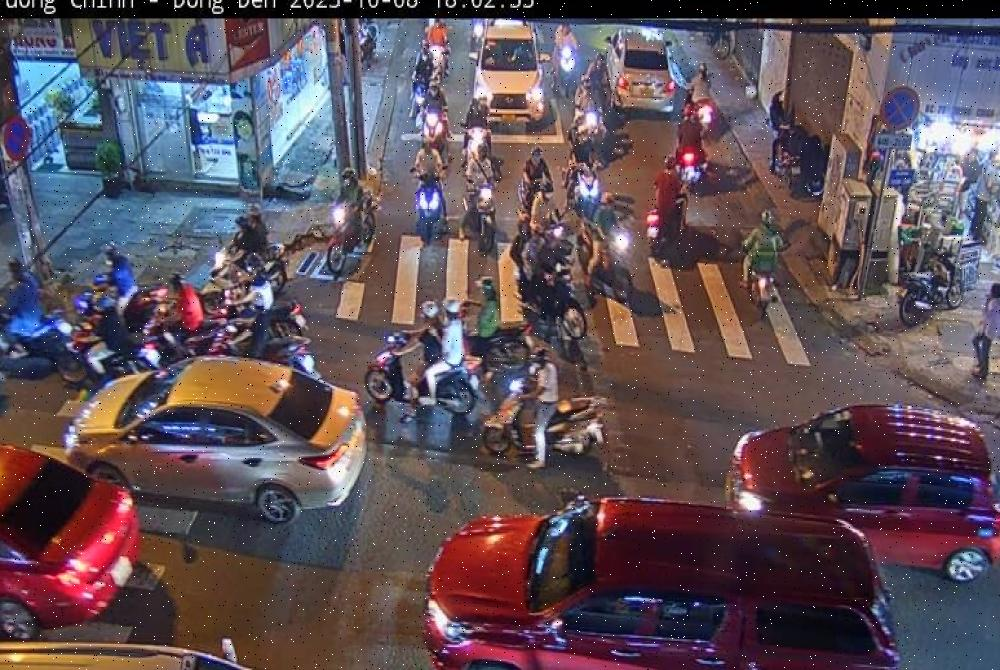car: (421, 496, 903, 670), (63, 357, 368, 522), (725, 406, 1000, 582), (0, 436, 145, 638), (488, 384, 605, 459), (472, 21, 544, 128), (608, 27, 678, 115)
